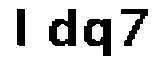7: (120, 4, 150, 51)
d: (44, 6, 80, 51)
l: (11, 5, 37, 50)
q: (82, 16, 117, 60)
